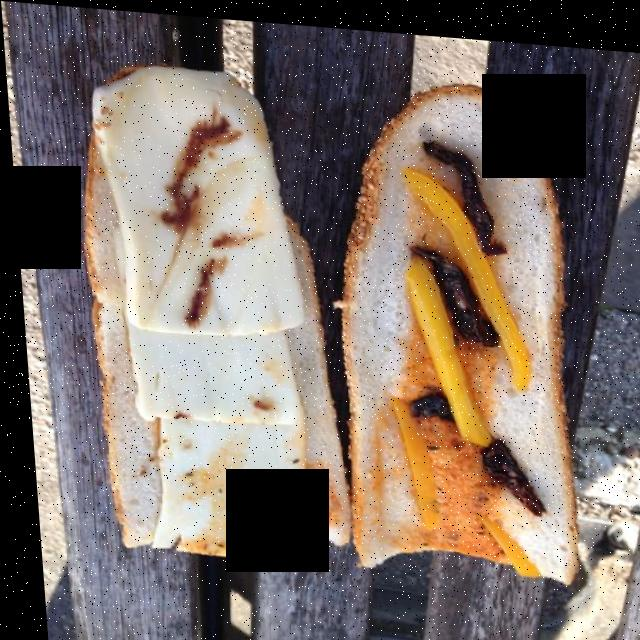bell-pepper-red-raw: (376, 161, 525, 518)
bread-french-white-flour: (74, 52, 560, 570)
mozzarella: (66, 58, 317, 554)
